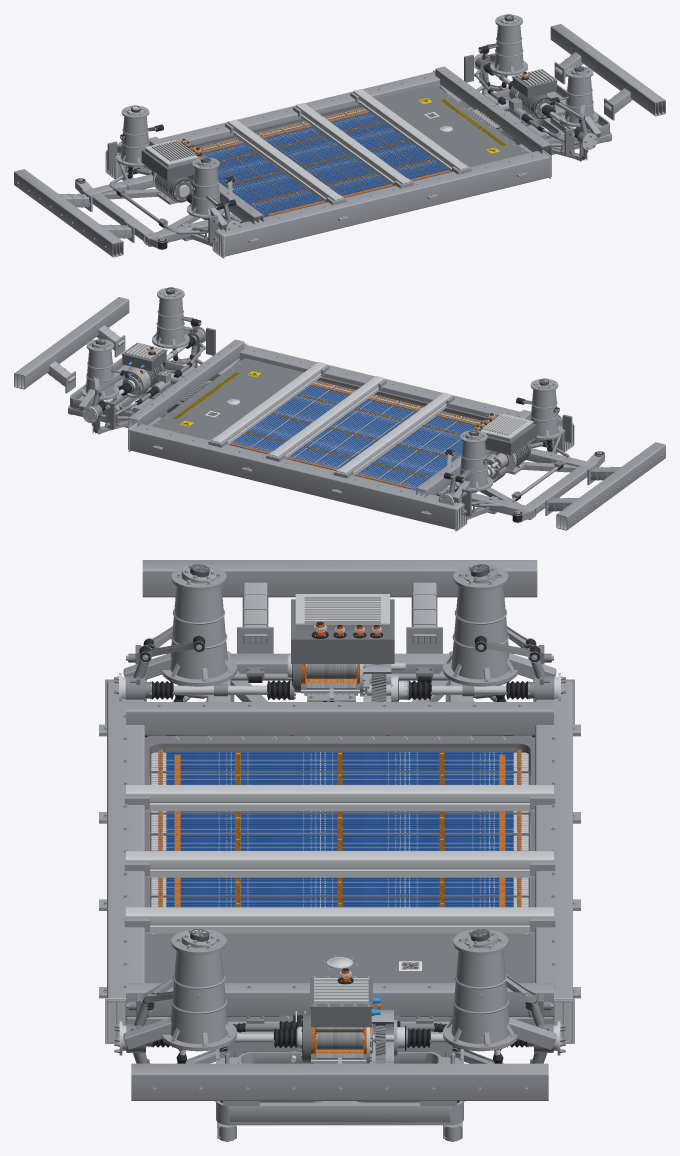
Rendered from byd-seal-xray.glb.
3 renders of one model, top to bottom at view 1: azimuth 30°, elevation 25°; view 2: azimuth 150°, elevation 25°; view 3: azimuth 270°, elevation 25°, orthographic. The views are drawn at different scales.
Parts seen in each view (by area): view 1: XR_Frame_Floor, XR_Battery, XR_Battery_Lid, XR_Frame_CrashF, XR_Frame_CrashR, XR_Frame_SubR, XR_Drive_R_Inverter, XR_Susp_FL_Tower, XR_Susp_RR_Tower, XR_Susp_FR_Tower, XR_Frame_SubF, XR_Susp_RL_Tower (+10 smaller); view 2: XR_Frame_Floor, XR_Battery, XR_Battery_Lid, XR_Frame_CrashF, XR_Frame_CrashR, XR_Frame_SubR, XR_Drive_R_Inverter, XR_Susp_FR_Tower, XR_Susp_RL_Tower, XR_Susp_FL_Tower, XR_Susp_RR_Tower, XR_Frame_SubF (+11 smaller); view 3: XR_Frame_Floor, XR_Battery, XR_Battery_Lid, XR_Frame_CrashF, XR_Frame_CrashR, XR_Frame_SubF, XR_Drive_R_Inverter, XR_Susp_FL_Tower, XR_Susp_FR_Tower, XR_Susp_RL_Tower, XR_Susp_RR_Tower, XR_Drive_F_Inverter (+21 smaller).
Part boxes in pixels (<box>): XR_Frame_Floor: <box>105,66,551,258</box>; XR_Battery: <box>200,107,450,217</box>; XR_Battery_Lid: <box>190,85,528,217</box>; XR_Frame_CrashF: <box>550,24,665,120</box>; XR_Frame_CrashR: <box>14,169,134,257</box>; XR_Frame_SubR: <box>75,174,243,249</box>; XR_Drive_R_Inverter: <box>141,138,205,181</box>; XR_Susp_FL_Tower: <box>487,14,527,75</box>; XR_Susp_RR_Tower: <box>187,157,227,229</box>; XR_Susp_FR_Tower: <box>560,66,600,137</box>; XR_Frame_SubF: <box>466,84,611,154</box>; XR_Susp_RL_Tower: <box>116,106,149,166</box>; XR_Frame_Floor: <box>128,339,574,531</box>; XR_Battery: <box>229,380,483,490</box>; XR_Battery_Lid: <box>151,358,488,490</box>; XR_Frame_CrashF: <box>14,297,129,393</box>; XR_Frame_CrashR: <box>545,442,665,530</box>; XR_Frame_SubR: <box>436,448,604,523</box>; XR_Drive_R_Inverter: <box>473,413,536,455</box>; XR_Susp_FR_Tower: <box>152,287,192,348</box>; XR_Susp_RL_Tower: <box>452,430,492,502</box>; XR_Susp_FL_Tower: <box>79,339,119,410</box>; XR_Susp_RR_Tower: <box>530,379,563,439</box>; XR_Frame_SubF: <box>68,357,213,427</box>; XR_Frame_Floor: <box>99,679,580,1043</box>; XR_Battery: <box>150,752,529,934</box>; XR_Battery_Lid: <box>145,736,534,982</box>; XR_Frame_CrashF: <box>131,1063,548,1105</box>; XR_Frame_CrashR: <box>142,560,537,653</box>; XR_Frame_SubF: <box>216,1017,463,1141</box>; XR_Drive_R_Inverter: <box>291,594,394,663</box>; XR_Susp_FL_Tower: <box>443,929,556,1051</box>; XR_Susp_FR_Tower: <box>123,929,236,1051</box>; XR_Susp_RL_Tower: <box>443,564,556,686</box>; XR_Susp_RR_Tower: <box>123,564,236,686</box>; XR_Drive_F_Inverter: <box>310,968,380,1027</box>.
Bounding box in the file's own units: 4.55 × 0.6857 × 1.71.
Materials: 28 (12 with a texture image).
